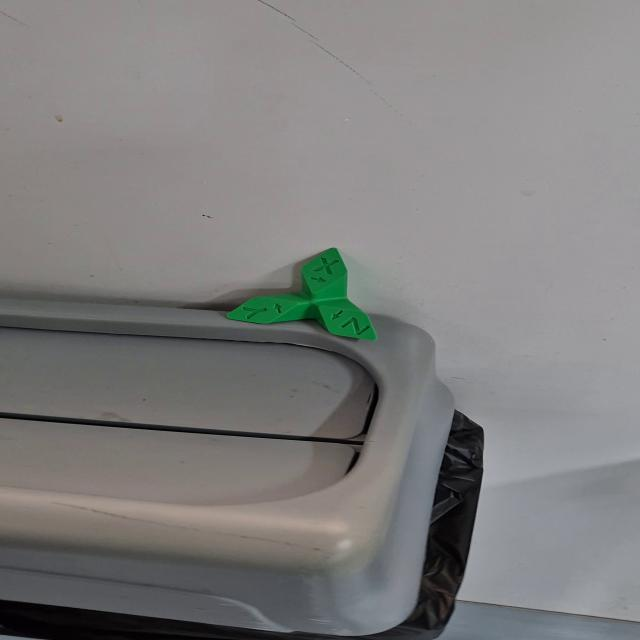objects: (222, 246, 380, 344)
